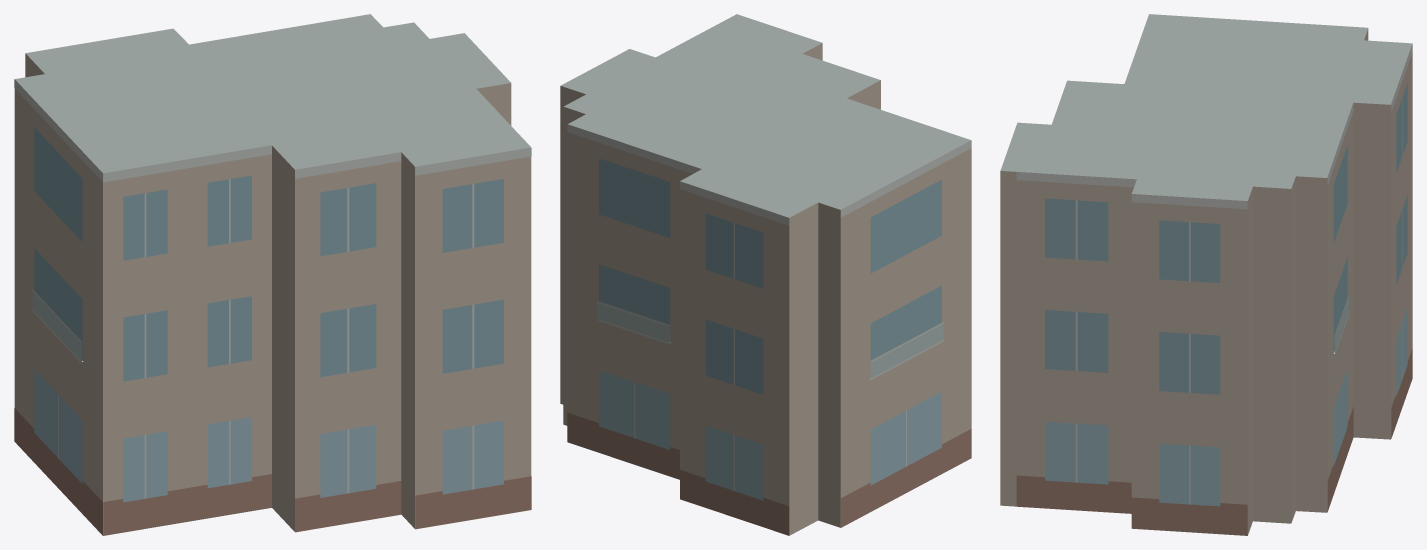
Rendered from survey-upis-32466462.glb.
3 views of the same model, side by side, from view 1: azimuth 30°, elevation 25°; view 2: azimuth 150°, elevation 25°; view 3: azimuth 270°, elevation 25° (orthographic). The views are drawn at different scales.
Visible parts, largest first — view 1: survey-upis-32466462.tmp; view 2: survey-upis-32466462.tmp; view 3: survey-upis-32466462.tmp.
Boxes of the visible parts, bbox=[...] form: survey-upis-32466462.tmp: bbox=[14, 14, 531, 535]; survey-upis-32466462.tmp: bbox=[560, 14, 971, 535]; survey-upis-32466462.tmp: bbox=[1000, 14, 1412, 535].
Bounding box in the file's own units: 11.83 × 9.86 × 11.01.
